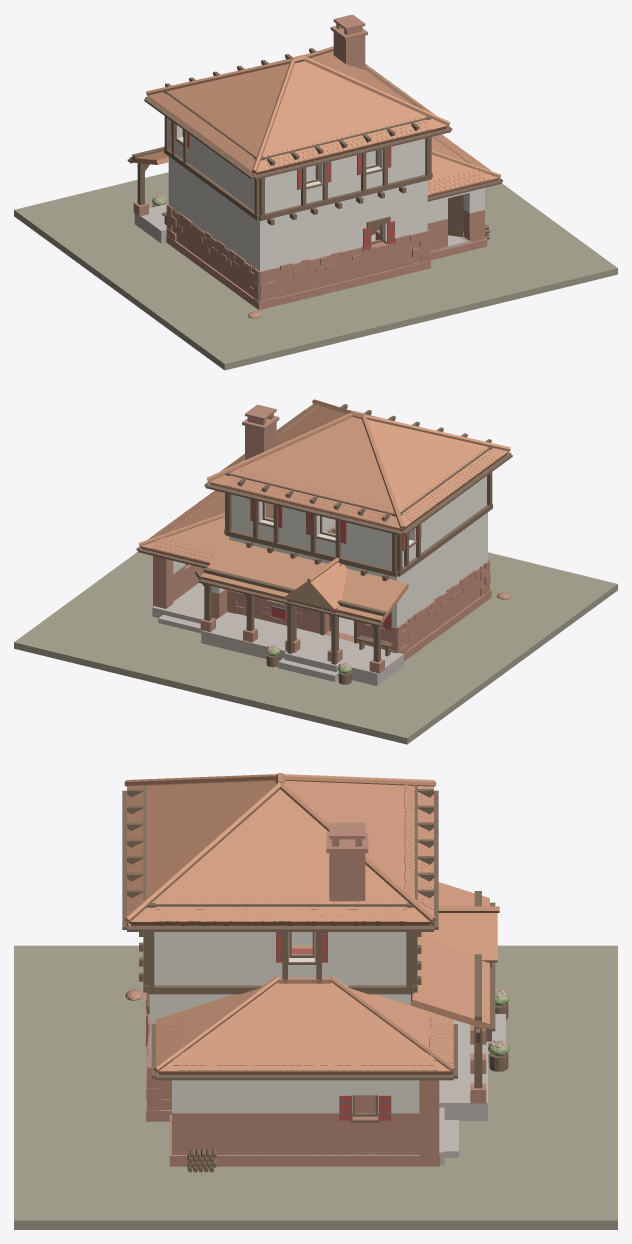
The model's file is tavern-7-annex.glb.
The picture shows the model from 3 angles, top to bottom: view 1: azimuth 30°, elevation 25°; view 2: azimuth 150°, elevation 25°; view 3: azimuth 270°, elevation 25°; orthographic projection. The views are drawn at different scales.
Parts seen in each view (by area): view 1: zemlya__m00, krysha__m03, obolochka__m01, obolochka__m00, obolochka__m02, krysha__m02, krysha__m00, obolochka__m11, obolochka__m05; view 2: zemlya__m00, krysha__m03, obolochka__m01, obolochka__m02, obolochka__m00, obolochka__m11, obolochka__m03, krysha__m02, krysha__m00, obolochka__m05, melochi__m02; view 3: zemlya__m00, krysha__m03, obolochka__m01, obolochka__m00, obolochka__m02, obolochka__m03, krysha__m02, obolochka__m11, krysha__m00, obolochka__m05, melochi__m02.
Boxes of the visible parts, bbox=[...] form: zemlya__m00: bbox=[14, 172, 617, 370]; krysha__m03: bbox=[146, 46, 500, 197]; obolochka__m01: bbox=[168, 120, 484, 271]; obolochka__m00: bbox=[133, 202, 487, 310]; obolochka__m02: bbox=[127, 48, 463, 248]; krysha__m02: bbox=[144, 97, 502, 201]; krysha__m00: bbox=[330, 14, 367, 69]; obolochka__m11: bbox=[134, 203, 471, 251]; obolochka__m05: bbox=[171, 121, 394, 250]; zemlya__m00: bbox=[14, 552, 617, 744]; krysha__m03: bbox=[138, 399, 510, 565]; obolochka__m01: bbox=[173, 476, 487, 627]; obolochka__m02: bbox=[185, 404, 492, 664]; obolochka__m00: bbox=[153, 556, 491, 673]; obolochka__m11: bbox=[152, 583, 403, 685]; obolochka__m03: bbox=[201, 539, 408, 622]; krysha__m02: bbox=[136, 452, 512, 568]; krysha__m00: bbox=[242, 404, 279, 459]; obolochka__m05: bbox=[250, 499, 421, 630]; melochi__m02: bbox=[266, 635, 393, 684]; zemlya__m00: bbox=[14, 945, 617, 1229]; krysha__m03: bbox=[124, 773, 455, 1075]; obolochka__m01: bbox=[149, 932, 419, 1113]; obolochka__m00: bbox=[145, 992, 486, 1166]; obolochka__m02: bbox=[127, 784, 495, 1122]; obolochka__m03: bbox=[410, 882, 499, 1029]; krysha__m02: bbox=[122, 790, 457, 1080]; obolochka__m11: bbox=[173, 1014, 505, 1165]; krysha__m00: bbox=[326, 822, 368, 902]; obolochka__m05: bbox=[146, 932, 391, 1120]; melochi__m02: bbox=[187, 1003, 508, 1172].
Size of the model in its own units: 18.02 by 8.99 by 16.73.
